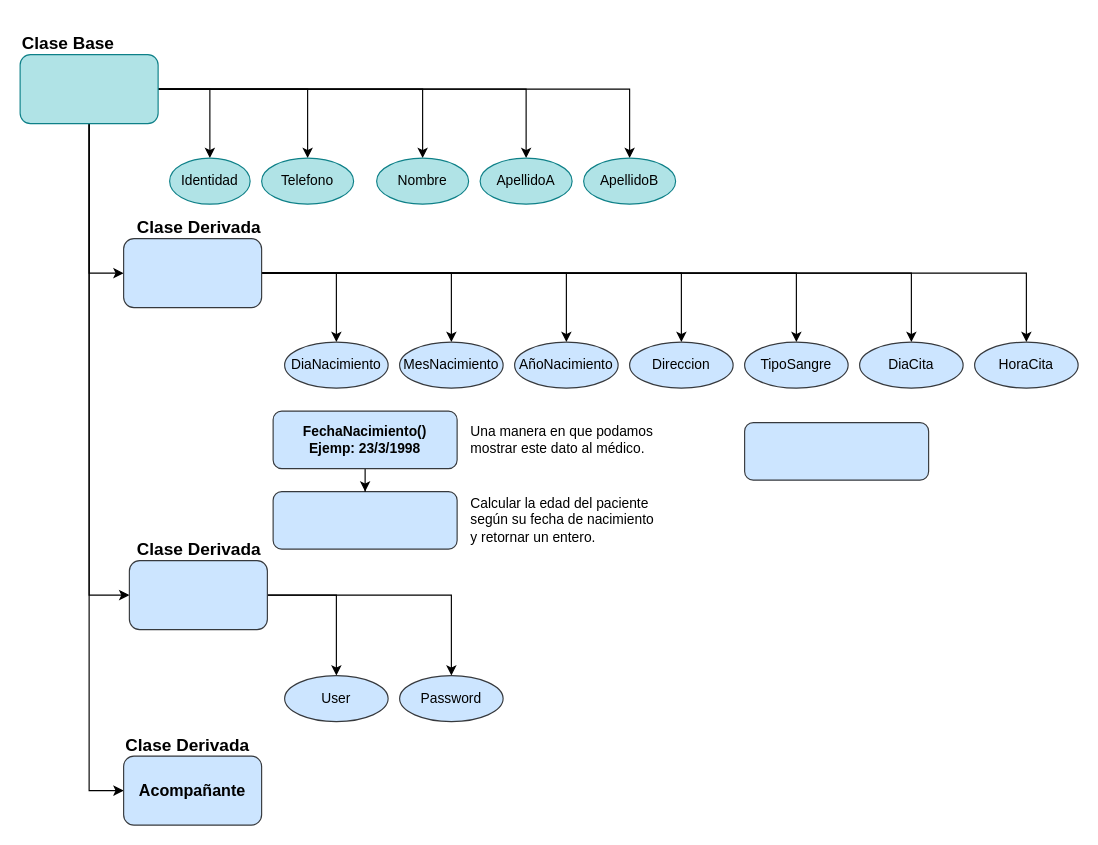
This 1098x845 diagram has some shape labels left out. The shapes that lost their labels are listed below. From the top down, each one's centre as x and y in pixels, then its label:
point (88, 88): PERSONA
point (192, 272): Paciente
point (836, 450): OrdenarPacientes()
point (364, 519): CalcularEdad() INT-> 25
point (197, 594): Medico
